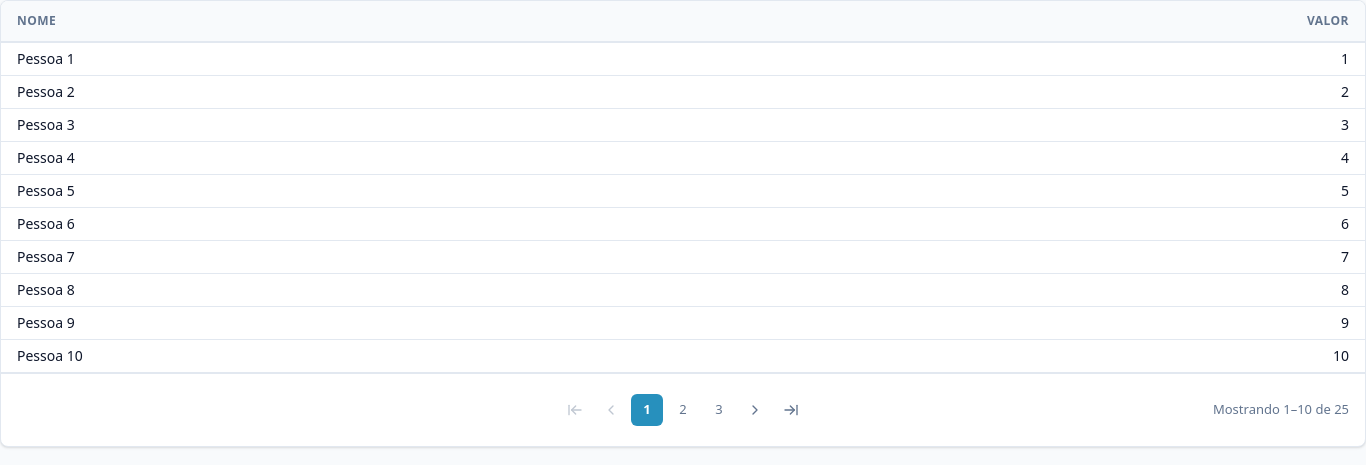
Test: Tabela: o básico › "Primeira página" e "Página anterior" voltam
The width and height of the screenshot is (1366, 465).
Click the button named "Próxima página".
click(755, 410)  # box x1=739 y1=394 x2=771 y2=426
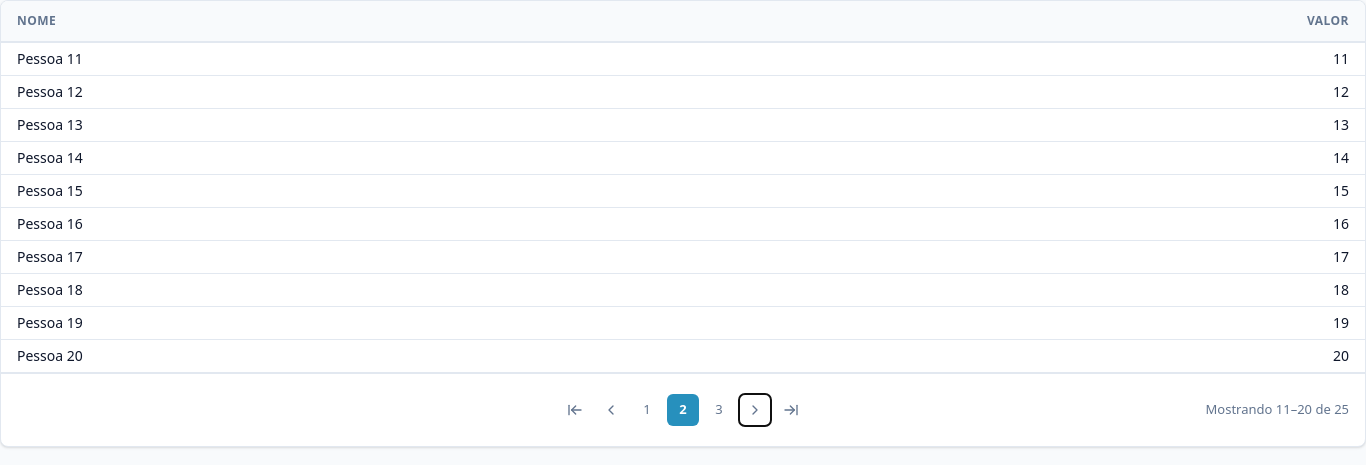
Click the button named "Próxima página".
click(755, 410)  # box x1=739 y1=394 x2=771 y2=426
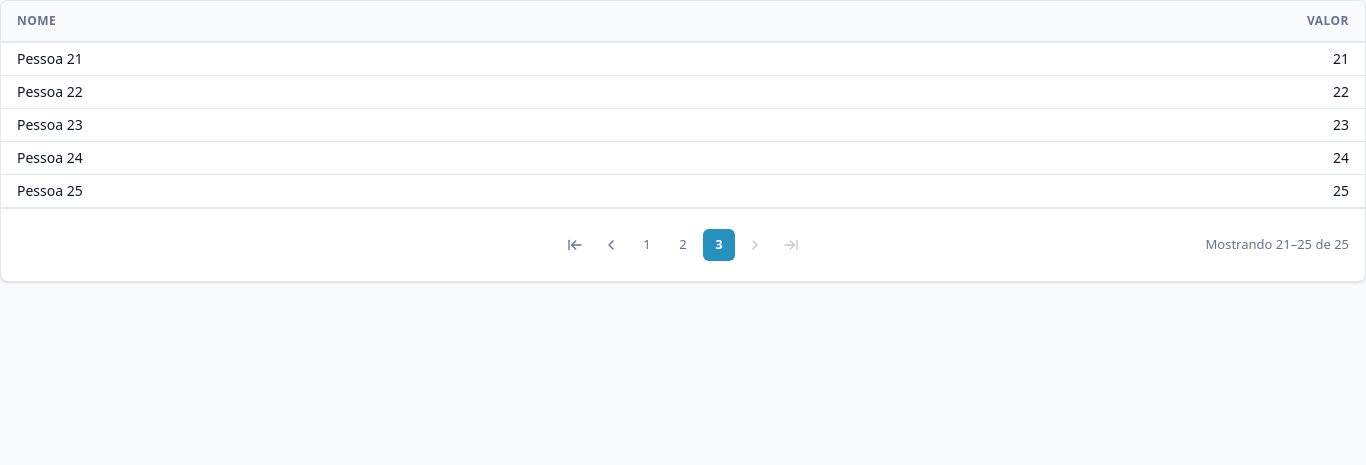
Click the button named "Página anterior".
click(611, 245)  # box x1=595 y1=229 x2=627 y2=261
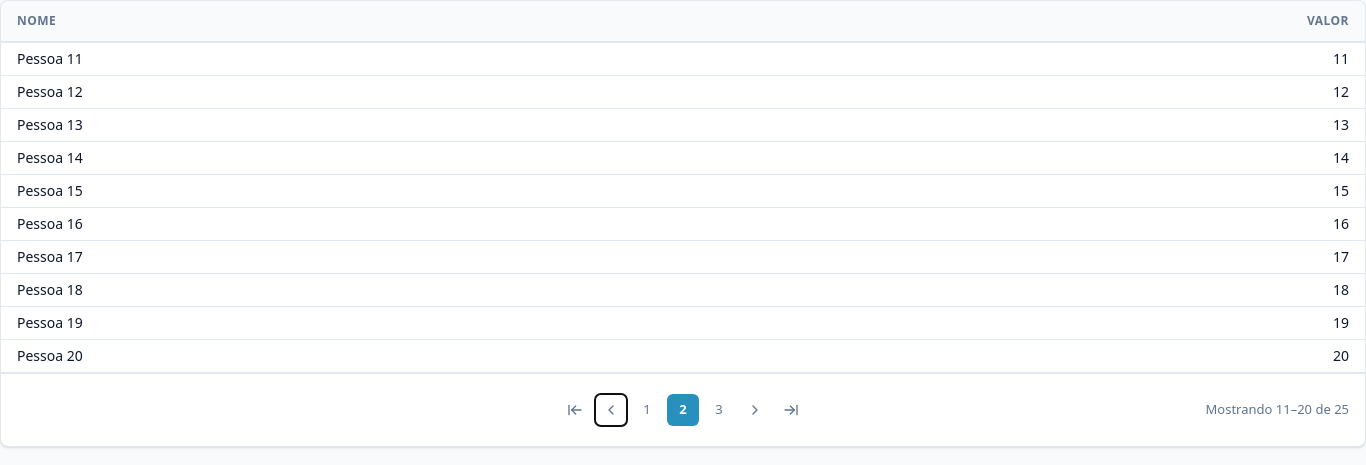
Check: the text "Mostrando 11–20 de 25" is shown, box x1=1206 y1=400 x2=1349 y2=420
Click the button named "Primeira página".
click(575, 410)  # box x1=559 y1=394 x2=591 y2=426
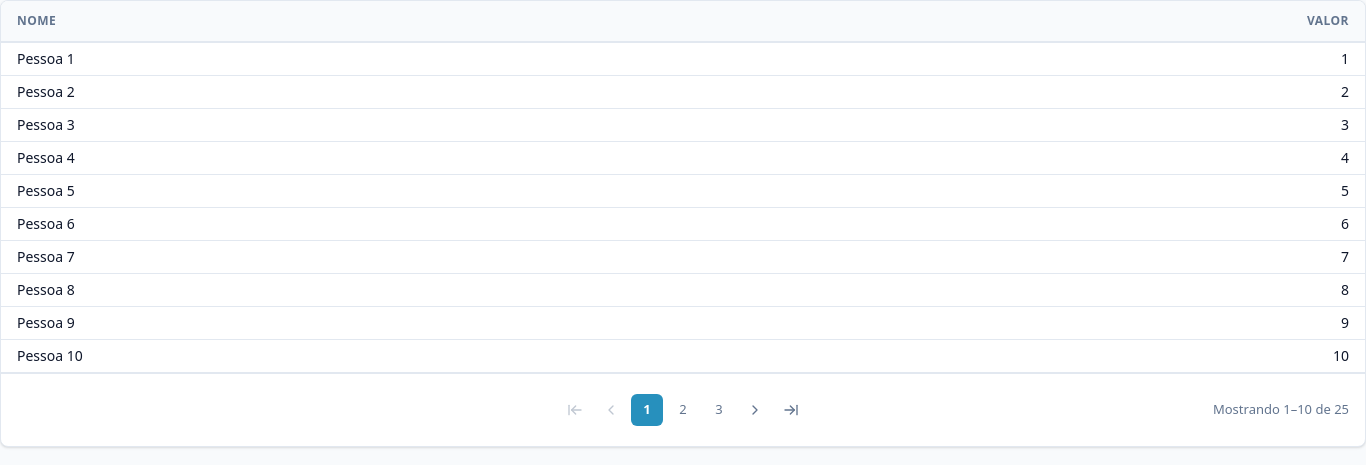
Check: the text "Mostrando 1–10 de 25" is shown, box x1=1213 y1=400 x2=1349 y2=420
Check: the button named "Primeira página" is disabled, box x1=559 y1=394 x2=591 y2=426
